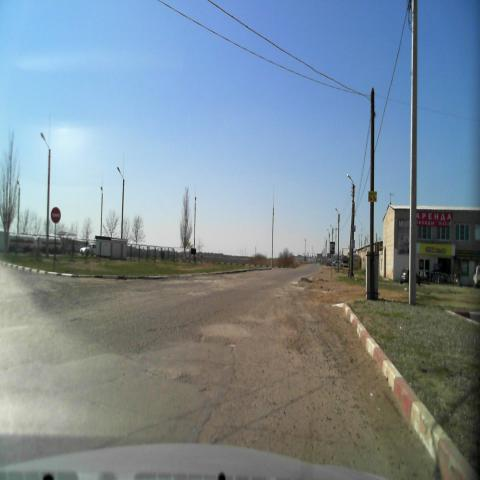3_1: (50, 205, 61, 225)
